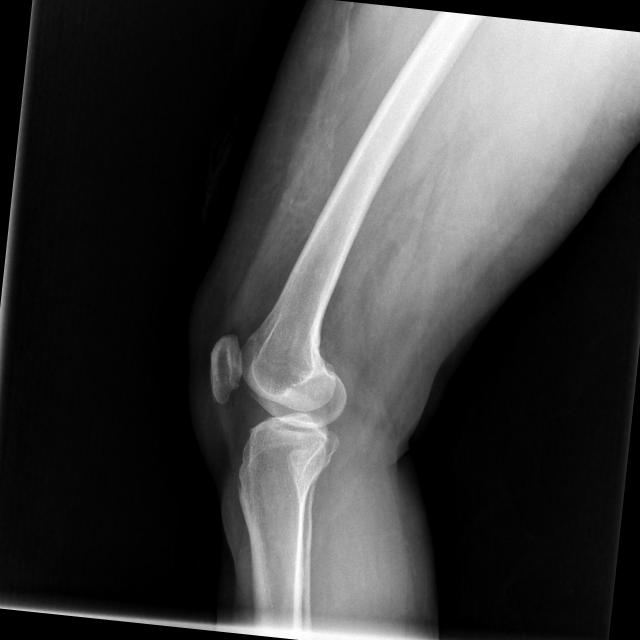Knee: (190, 309, 358, 498)
